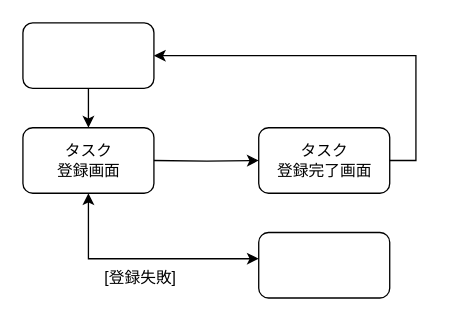
This 449x321 diagram has some shape labels left out. Here are the shapes that lost their labels. From the top down, the box of each, then its label:
(22, 22, 154, 88): メニュー画面
(257, 231, 390, 298): タスク 登録エラー画面
